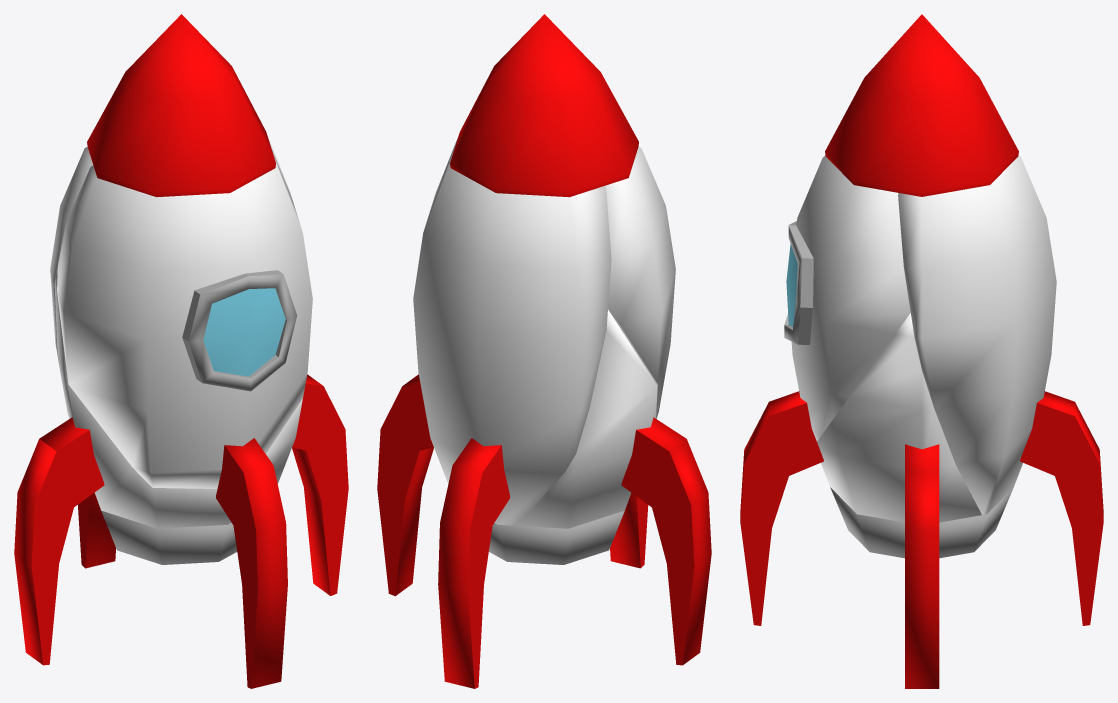
The model's file is Rocket_destroyedVersion.fbx.
3 renders of one model, left to right at view 1: azimuth 30°, elevation 25°; view 2: azimuth 150°, elevation 25°; view 3: azimuth 270°, elevation 25°, orthographic.
Parts seen in each view (by area): view 1: Cube.011, Cube.019, Cube.020, Cube.016, Cube.013, Cube.015, Cube.017, Cube.014, Cube.018, Cube.012; view 2: Cube.012, Cube.019, Cube.020, Cube.018, Cube.011, Cube.015, Cube.017, Cube.014, Cube.016; view 3: Cube.012, Cube.019, Cube.011, Cube.020, Cube.018, Cube.016, Cube.017, Cube.014, Cube.013.
Part boxes in pixels (x1,y1,x2,y2): Cube.011: (57, 149, 312, 488); Cube.019: (87, 14, 275, 197); Cube.020: (39, 266, 323, 528); Cube.016: (216, 438, 287, 688); Cube.013: (182, 270, 296, 391); Cube.015: (14, 439, 73, 665); Cube.017: (292, 386, 348, 595); Cube.014: (101, 510, 237, 564); Cube.018: (78, 493, 115, 568); Cube.012: (50, 138, 292, 382); Cube.012: (413, 138, 611, 525); Cube.019: (450, 14, 638, 197); Cube.020: (402, 309, 686, 528); Cube.018: (438, 438, 510, 688); Cube.011: (605, 146, 675, 418); Cube.015: (652, 439, 711, 665); Cube.017: (377, 386, 433, 596); Cube.014: (489, 510, 624, 564); Cube.016: (610, 493, 648, 568); Cube.012: (898, 155, 1056, 514); Cube.019: (825, 14, 1018, 196); Cube.011: (791, 155, 910, 441); Cube.020: (817, 313, 981, 522); Cube.018: (1020, 391, 1103, 625); Cube.016: (740, 391, 823, 625); Cube.017: (905, 473, 939, 688); Cube.014: (830, 487, 1013, 558); Cube.013: (784, 221, 813, 344).
Bounding box in the file's own units: 4.75 × 8.73 × 4.75.
